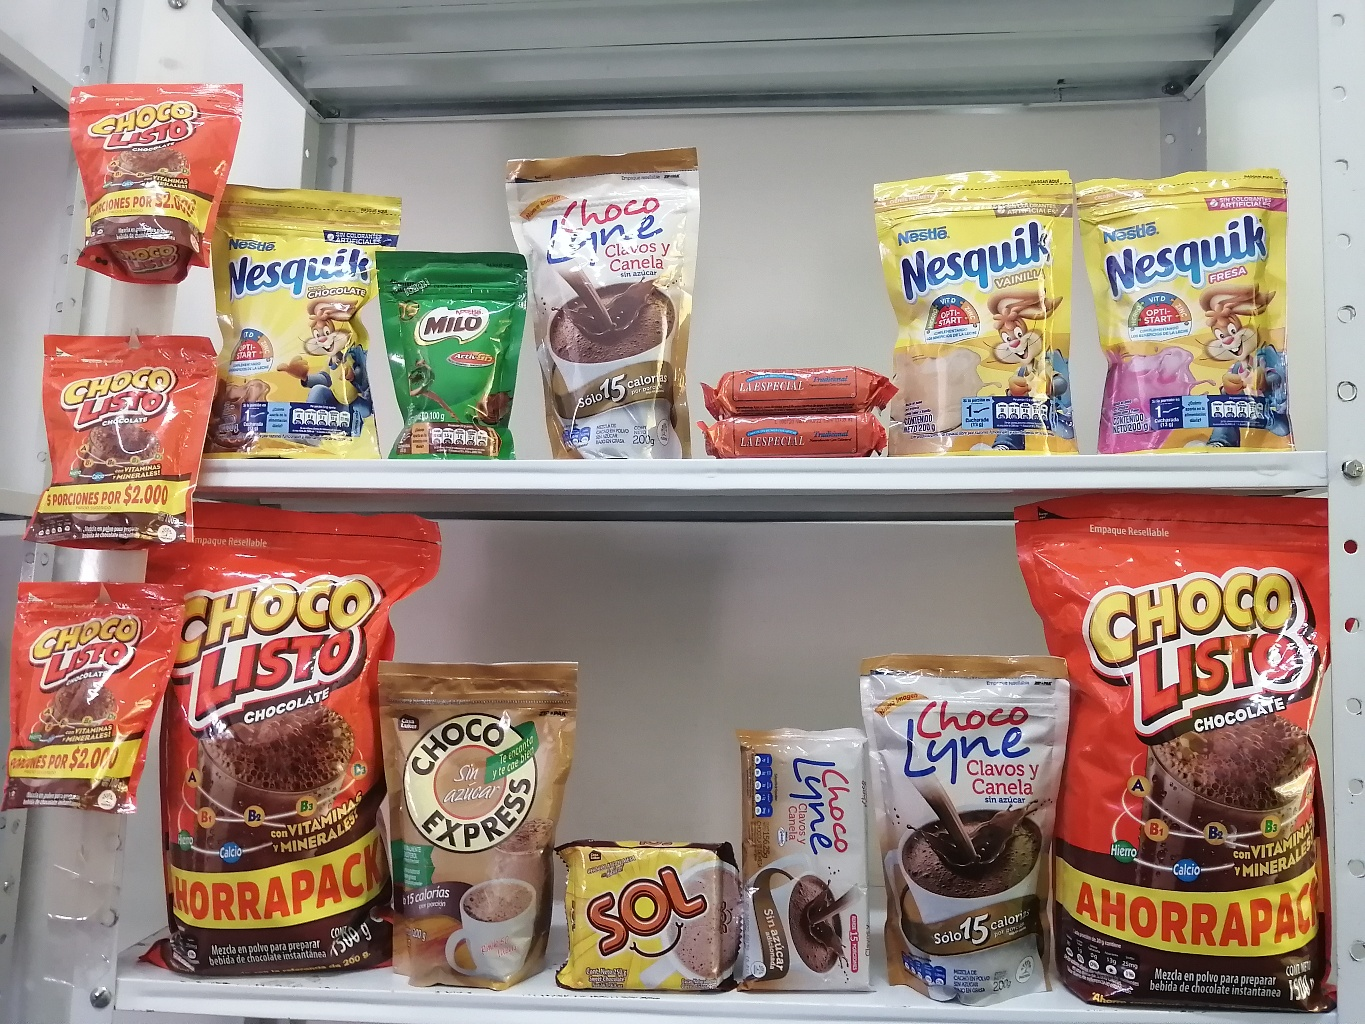COL0170103DYP1,500: (989, 490, 1357, 1016)
COL0170203DYP10000: (364, 234, 536, 473)
COL0170303DYP20000: (181, 166, 395, 473)
COL0170305DYP20000: (1052, 146, 1319, 457)
COL0170306DYP20000: (855, 162, 1090, 458)
